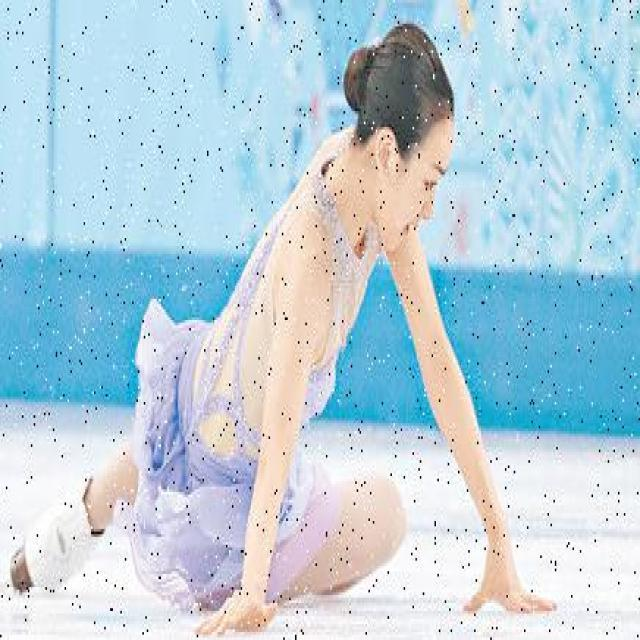fall: (85, 53, 502, 611)
